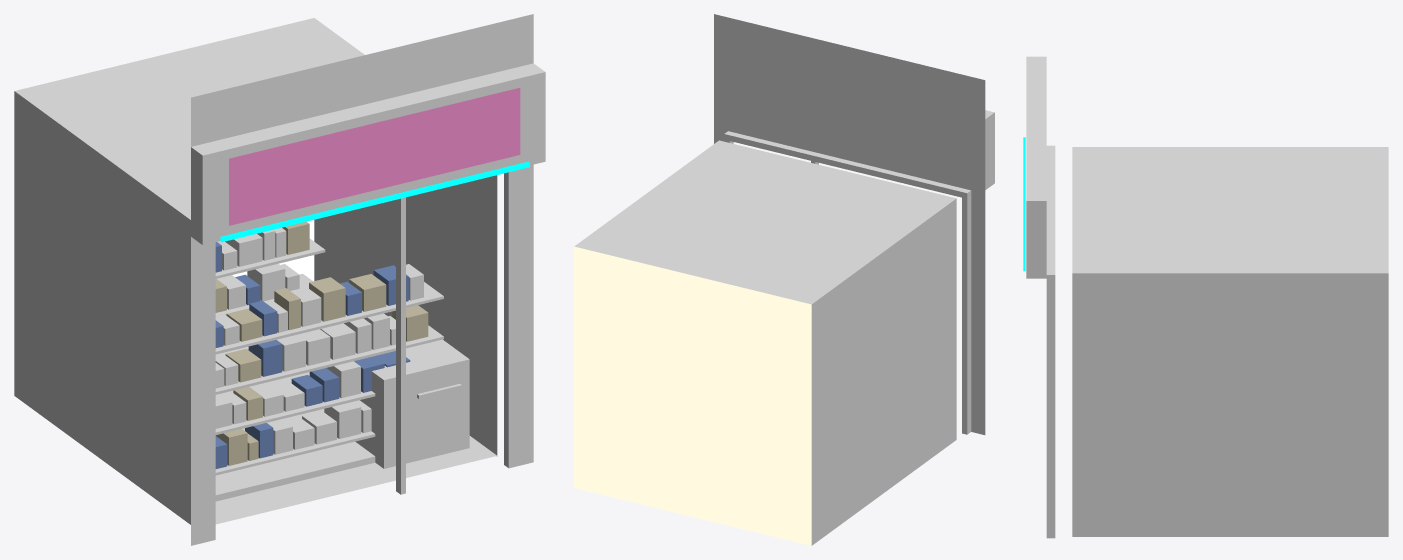
The model's file is OCK_Bay_Storefront_A.fbx.
3 views of the same model, side by side, from view 1: azimuth 30°, elevation 25°; view 2: azimuth 150°, elevation 25°; view 3: azimuth 270°, elevation 25° (orthographic). The views are drawn at different scales.
Visible parts, largest first — view 1: OCK_Bay_Storefront_A; view 2: OCK_Bay_Storefront_A; view 3: OCK_Bay_Storefront_A.
Part boxes in pixels (<box>): OCK_Bay_Storefront_A: <box>14,14,545,545</box>; OCK_Bay_Storefront_A: <box>574,14,994,545</box>; OCK_Bay_Storefront_A: <box>1023,56,1388,538</box>.
Size of the model in its own units: 400 by 500 by 428.
